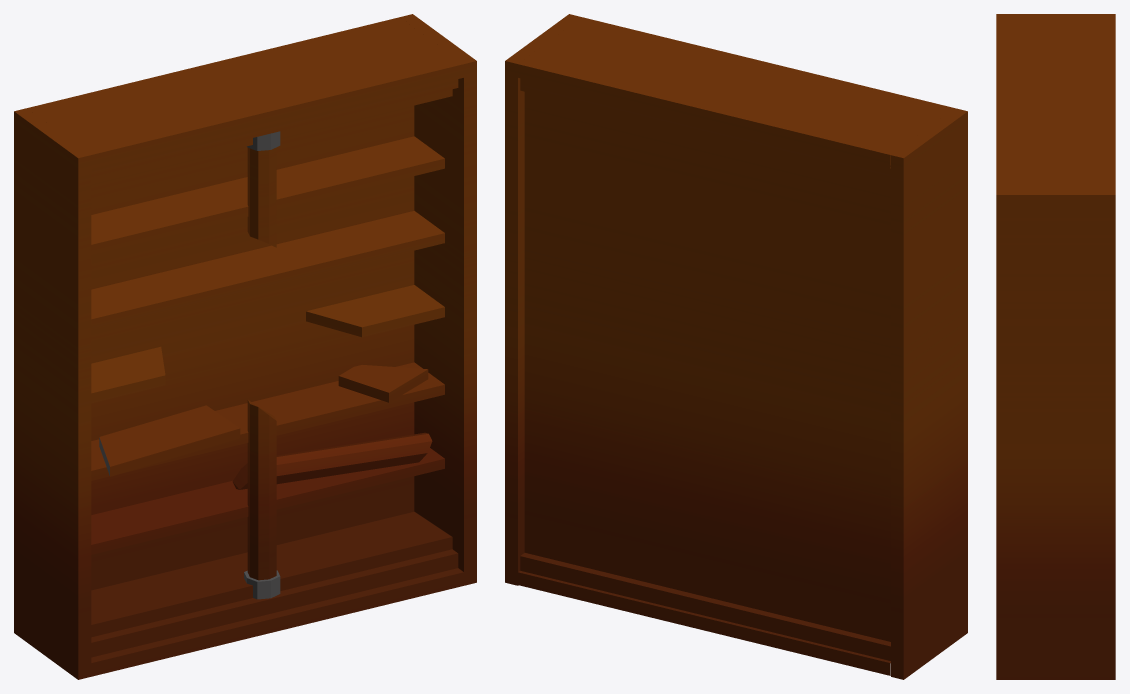
The model's file is Bookshelf 02 Center 02.c.fbx.
3 views of the same model, side by side, from view 1: azimuth 30°, elevation 25°; view 2: azimuth 150°, elevation 25°; view 3: azimuth 270°, elevation 25° (orthographic). The views are drawn at different scales.
Parts seen in each view (by area): view 1: Bookshelf 02 Center 02.c; view 2: Bookshelf 02 Center 02.c; view 3: Bookshelf 02 Center 02.c.
Part boxes in pixels (x1=…): Bookshelf 02 Center 02.c: x1=14, y1=14, x2=476, y2=679; Bookshelf 02 Center 02.c: x1=505, y1=14, x2=967, y2=679; Bookshelf 02 Center 02.c: x1=996, y1=14, x2=1115, y2=679.
Bounding box in the file's own units: 214 × 267 × 59.62.
